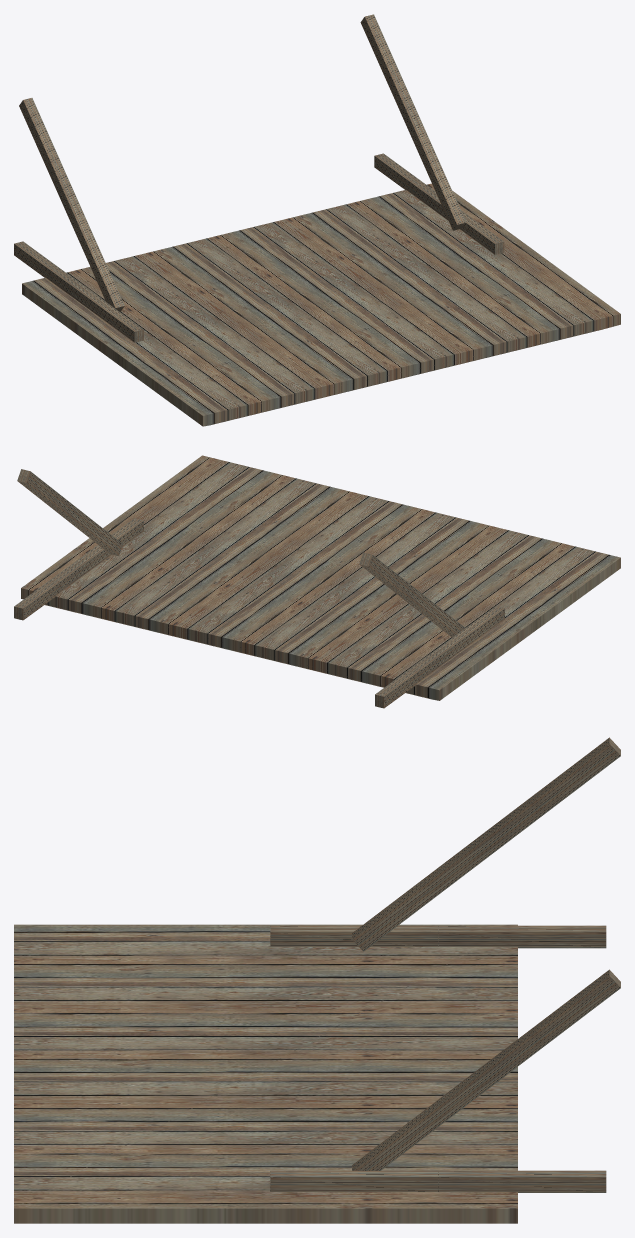
File: urbanwood01billboard_wtf.obj
The picture shows the model from 3 angles, top to bottom: view 1: azimuth 30°, elevation 25°; view 2: azimuth 150°, elevation 25°; view 3: azimuth 270°, elevation 25°; orthographic projection. The views are drawn at different scales.
Visible parts, largest first — view 1: group4; view 2: group4; view 3: group4.
Part boxes in pixels (x1,y1,x2,y2): group4: [14, 14, 620, 426]; group4: [14, 455, 620, 708]; group4: [14, 737, 620, 1223].
Size of the model in its own units: 660 by 253 by 596.
